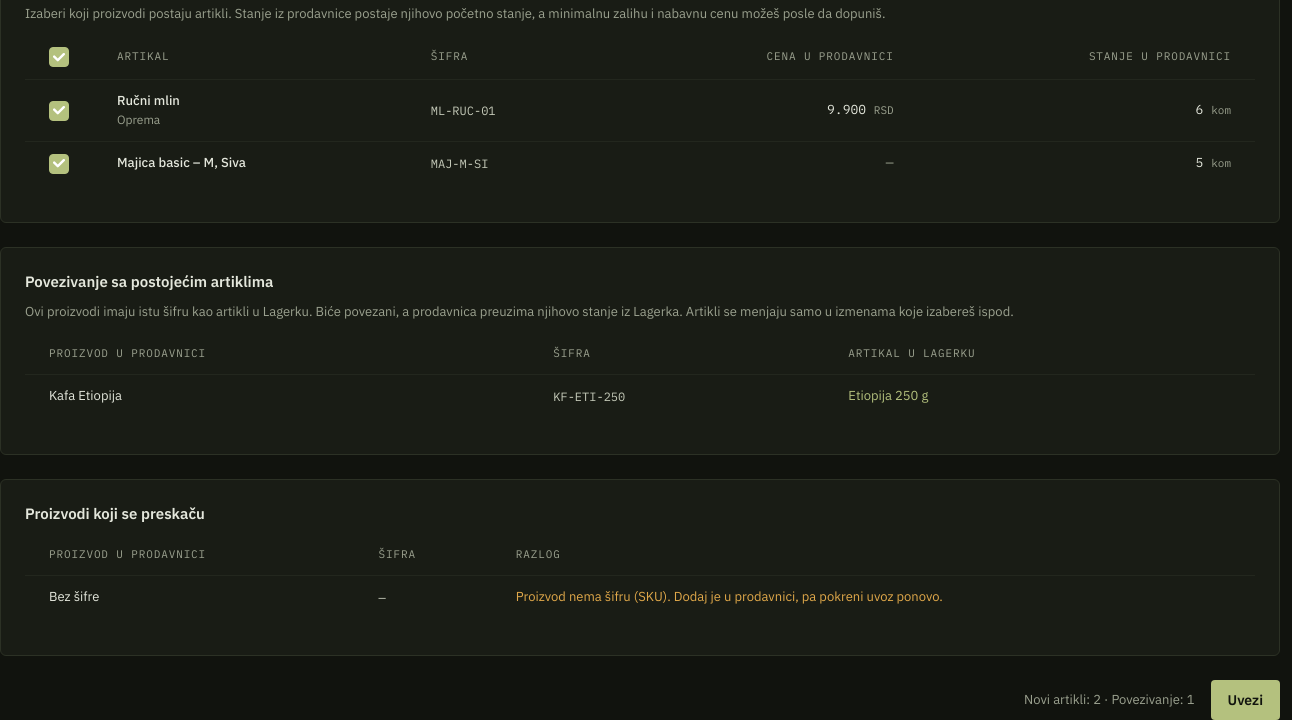
Test: ProductImportPage › Import_Finished_CountsUpThenClosesWithX
This screenshot has width=1292, height=720.
(page scrolled)
Click the button "Uvezi" at [1245, 700], box [1210,680,1280,719]
(page scrolled)
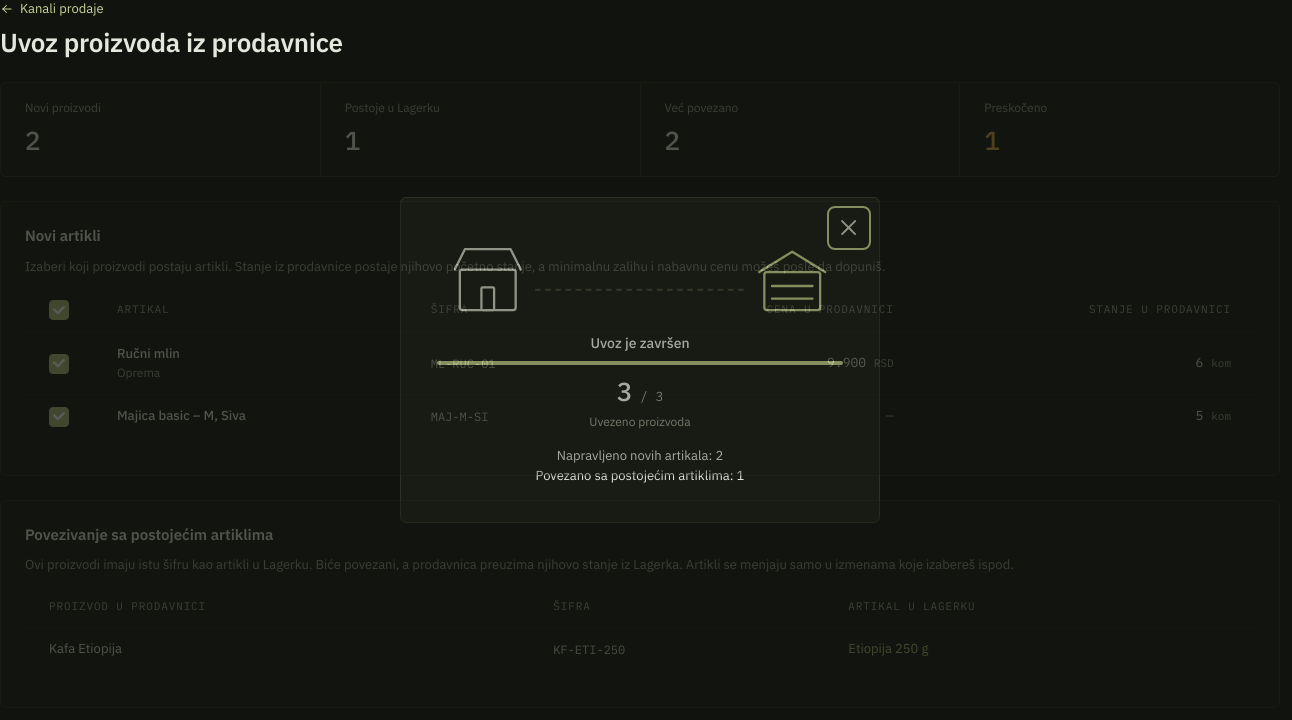
Result: the element with test id "import-count" reads "3 / 3" at [617,373,663,411]
Click the button named "Zatvori" at [849, 228], box [831,210,867,246]
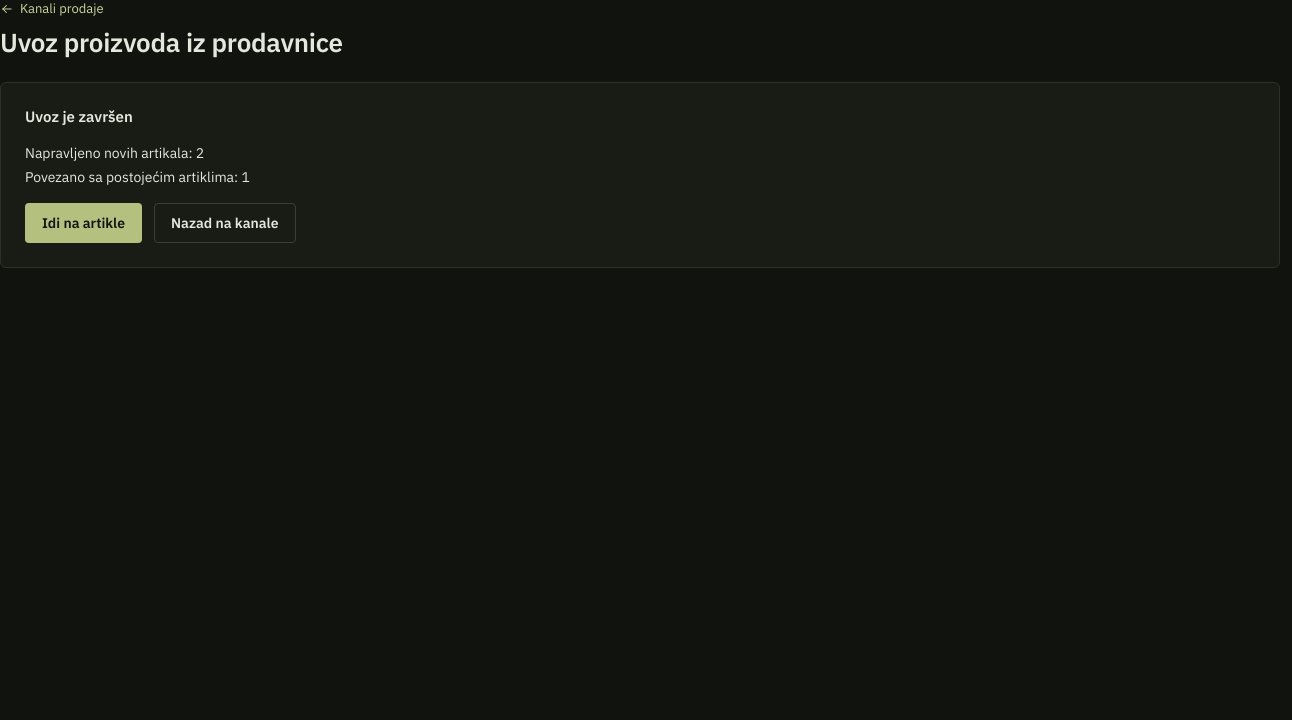
Result: the element with test id "import-count" is gone
Result: the link "Idi na artikle" is shown at [25,203,142,243]
